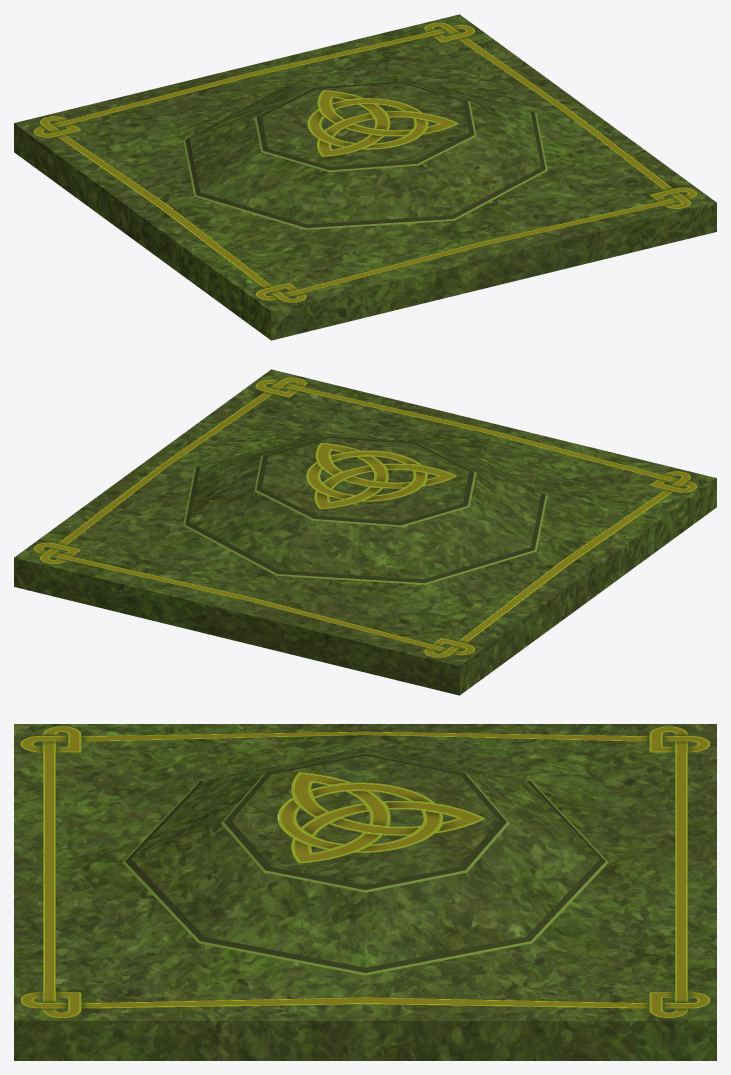
Rendered from mountain_centrebump.gltf.
3 renders of one model, top to bottom at view 1: azimuth 30°, elevation 25°; view 2: azimuth 150°, elevation 25°; view 3: azimuth 270°, elevation 25°, orthographic. The views are drawn at different scales.
Parts seen in each view (by area): view 1: mountain_centrebump_glb; view 2: mountain_centrebump_glb; view 3: mountain_centrebump_glb.
Boxes of the visible parts, x1,y1,x2,y2 form: mountain_centrebump_glb: [14, 14, 716, 340]; mountain_centrebump_glb: [14, 369, 716, 695]; mountain_centrebump_glb: [14, 724, 716, 1060].
Size of what is drawn, in the model's own units: 4 by 0.5959 by 4.
2 materials, 2 textured.
